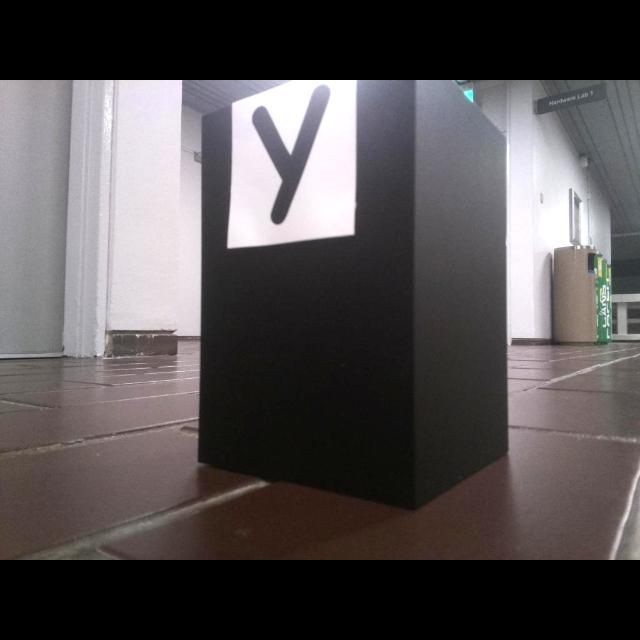Y: (252, 85, 331, 224)
